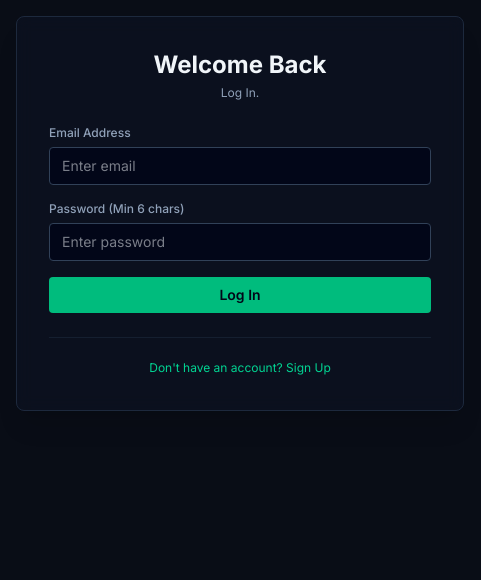
Test case: Login Page (Client Component) › auto-continue polling after verification › automatically establishes a session once the pending user's email becomes verified
Click the button "Don't have an account? Sign Up": (240, 368) 149,360 -> 331,376
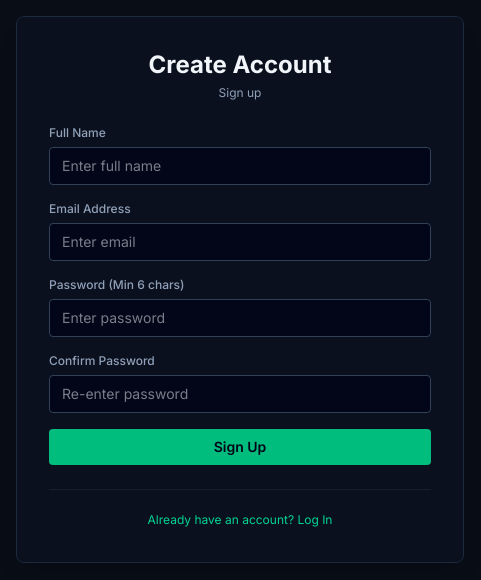
In the field with placeholder "Enter full name": (240, 166) 49,147 -> 431,185, type "New User"
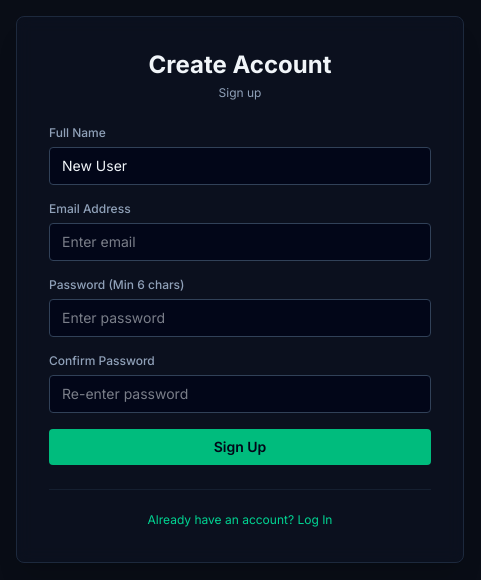
In the field with placeholder "Enter email": (240, 242) 49,223 -> 431,261, type "newuser@domain.com"
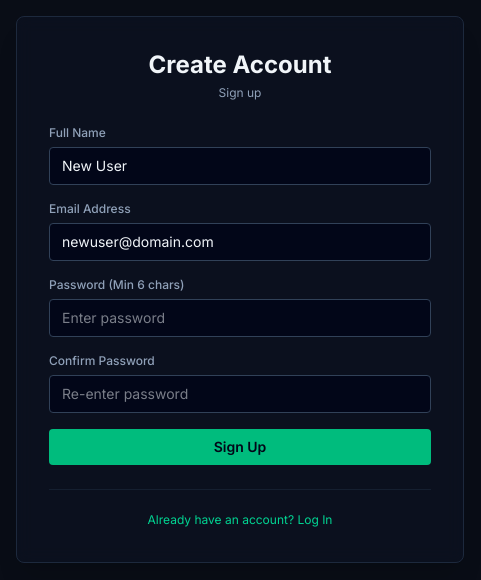
In the password field with placeholder "Enter password": (240, 318) 49,299 -> 431,337, type "securePassword"
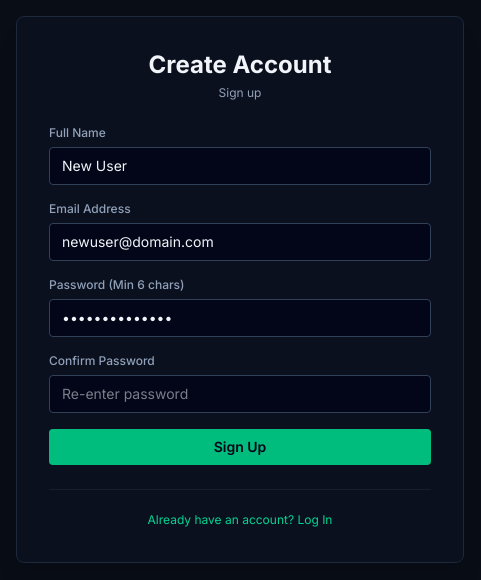
In the password field with placeholder "Re-enter password": (240, 394) 49,375 -> 431,413, type "securePassword"
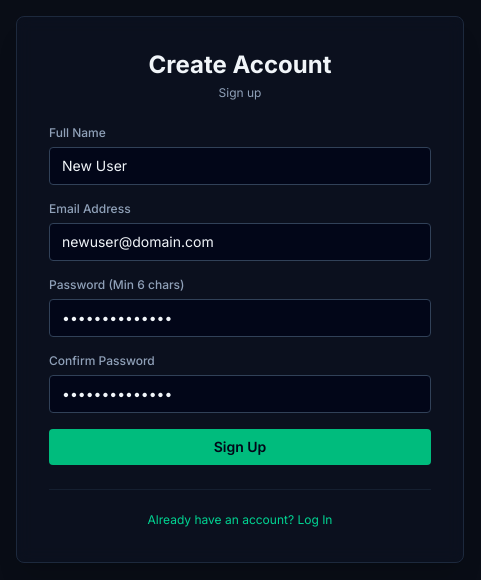
Click the button "Sign Up": (240, 447) 49,429 -> 431,465
Wait 3000 ms
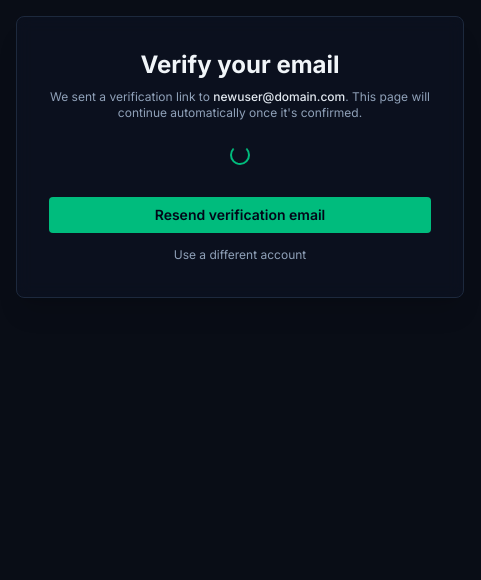
expect the heading "Verify your email" is shown: met, box 140,50 -> 340,79
